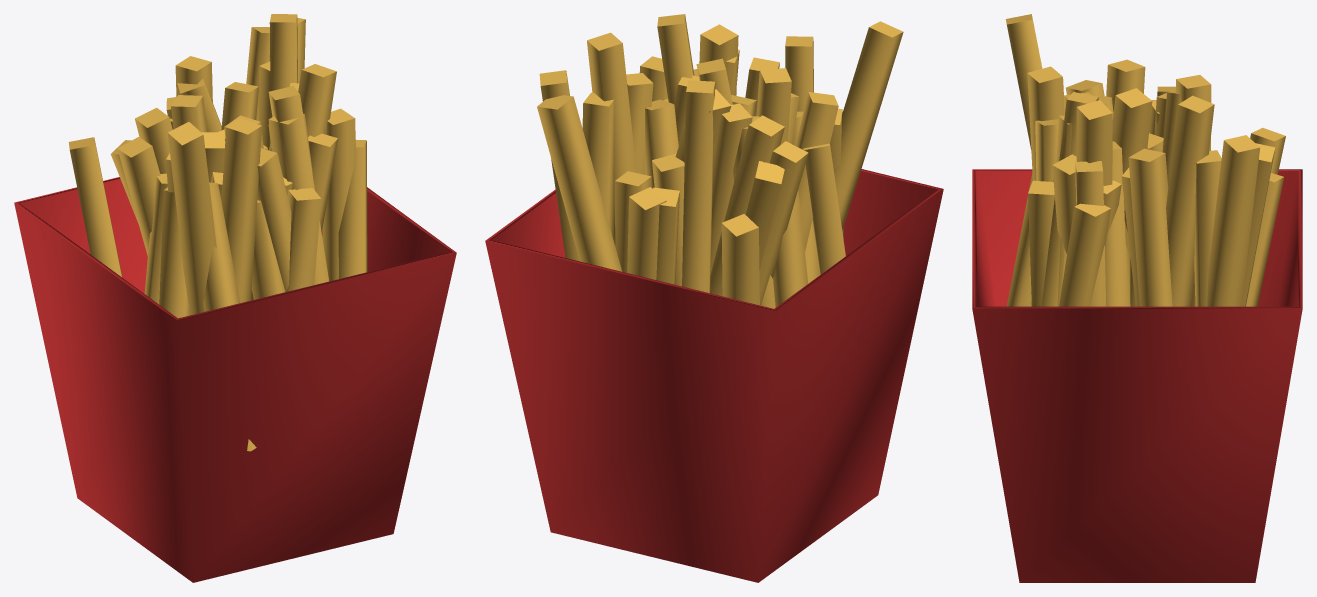
The model's file is batata-frita.glb.
3 views of the same model, side by side, from view 1: azimuth 30°, elevation 25°; view 2: azimuth 150°, elevation 25°; view 3: azimuth 270°, elevation 25° (orthographic). The views are drawn at different scales.
Visible parts, largest first — view 1: friesBox, fry; view 2: friesBox, fry; view 3: friesBox, fry.
Boxes of the visible parts, x1=… form: friesBox: x1=14, y1=177, x2=456, y2=582; fry: x1=68, y1=14, x2=367, y2=451; friesBox: x1=485, y1=169, x2=943, y2=582; fry: x1=537, y1=14, x2=903, y2=308; friesBox: x1=972, y1=169, x2=1302, y2=582; fry: x1=1005, y1=14, x2=1285, y2=306.
Bounding box in the file's own units: 0.112 × 0.1752 × 0.112.
